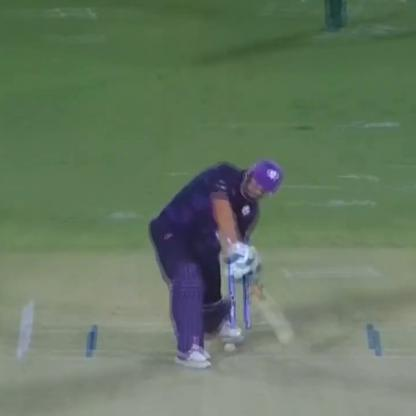ball: (219, 340, 240, 354)
bat: (215, 243, 305, 344)
pitch: (2, 296, 415, 413)
